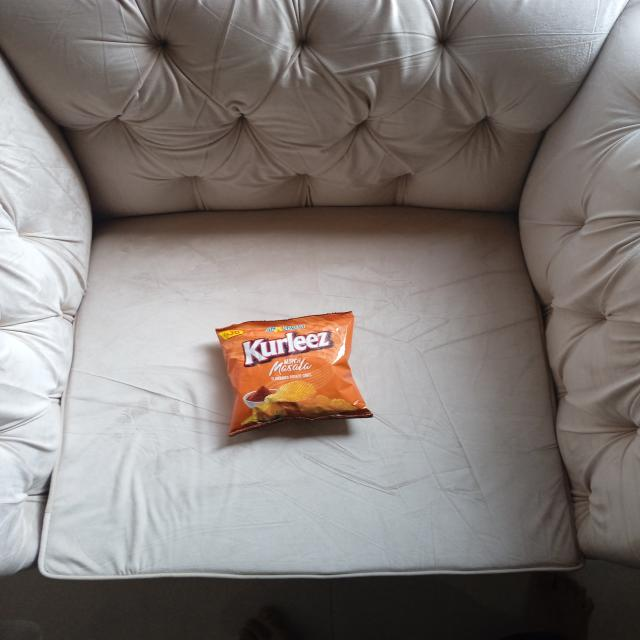Plastic: (222, 312, 370, 437)
